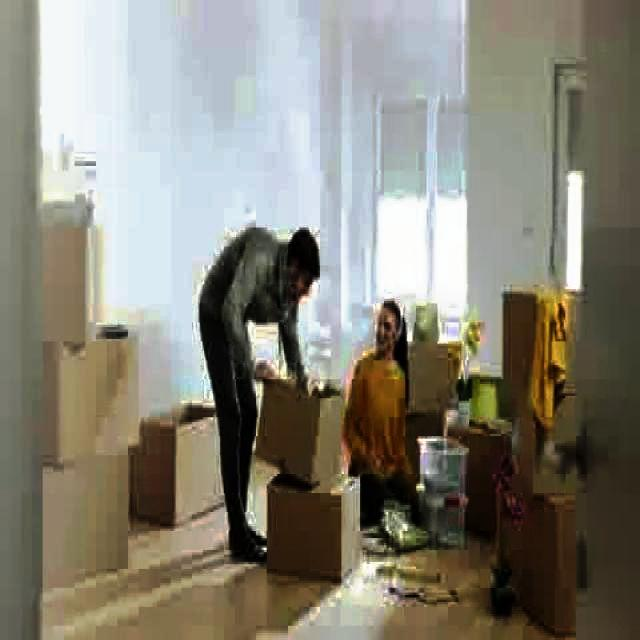Box: (50, 327, 142, 458), (268, 474, 356, 586), (147, 403, 226, 524), (44, 464, 128, 572), (41, 213, 108, 334), (264, 389, 336, 486)
